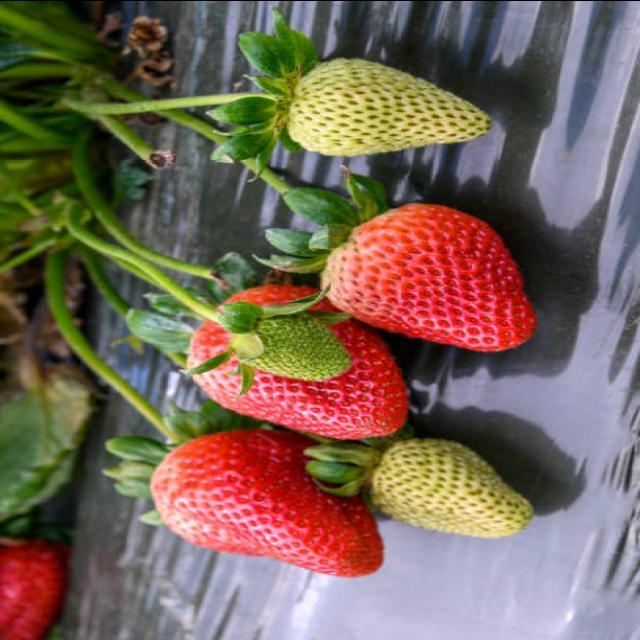strawberry: (180, 284, 410, 438), (151, 429, 381, 575), (317, 202, 533, 350), (278, 56, 494, 154), (370, 438, 528, 534), (232, 304, 342, 378)
